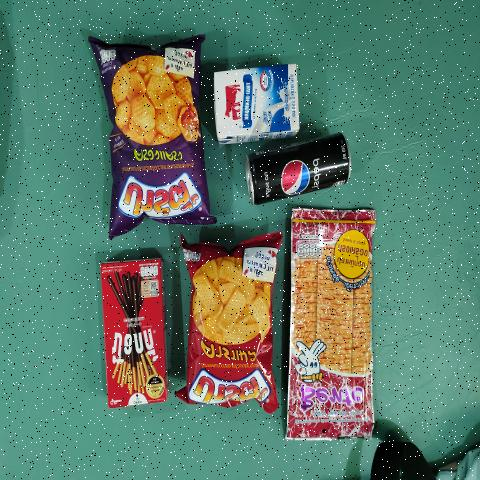bento_red: (295, 208, 369, 435)
party_purple: (106, 47, 201, 216)
party_red: (186, 243, 268, 403)
pepsi_black: (246, 135, 355, 210)
pokki: (103, 270, 166, 400)
thai_denmark: (213, 60, 301, 144)
